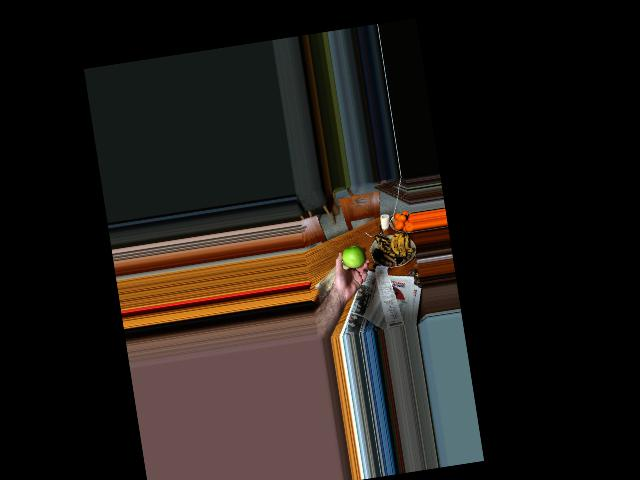apple: (337, 240, 366, 273)
